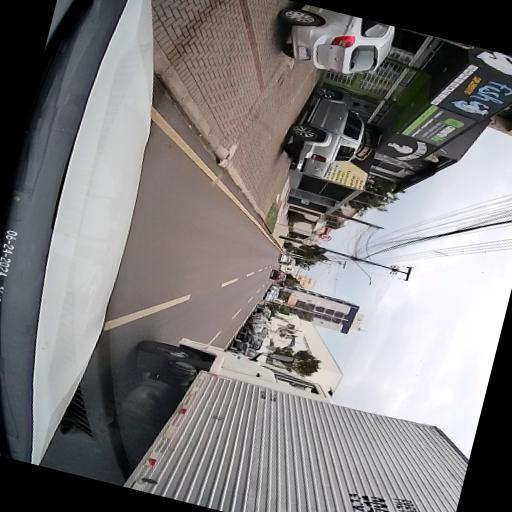R-19: (305, 242, 312, 246)
R-6a: (320, 234, 330, 242)
